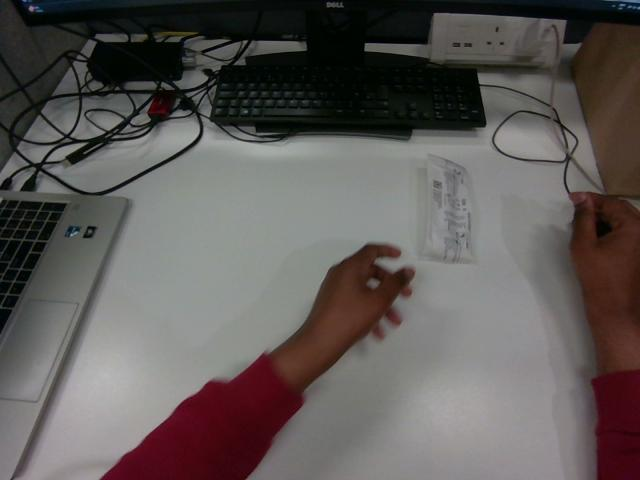syringe: (416, 155, 473, 262)
